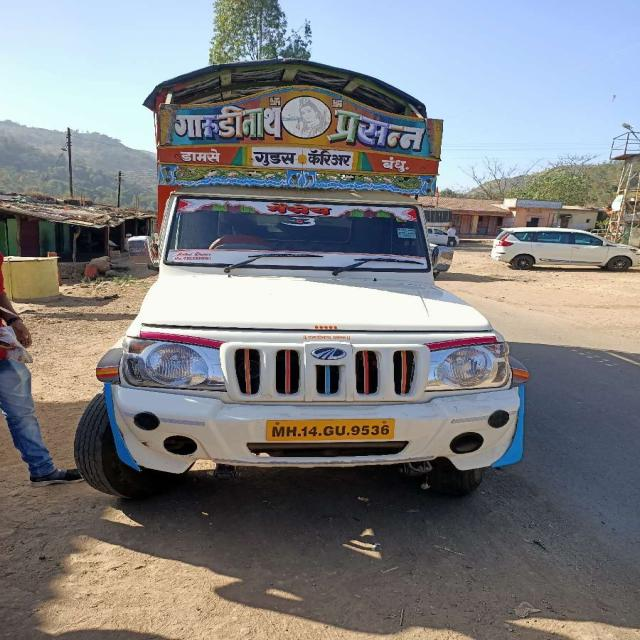light_vehicle: (90, 167, 514, 471)
